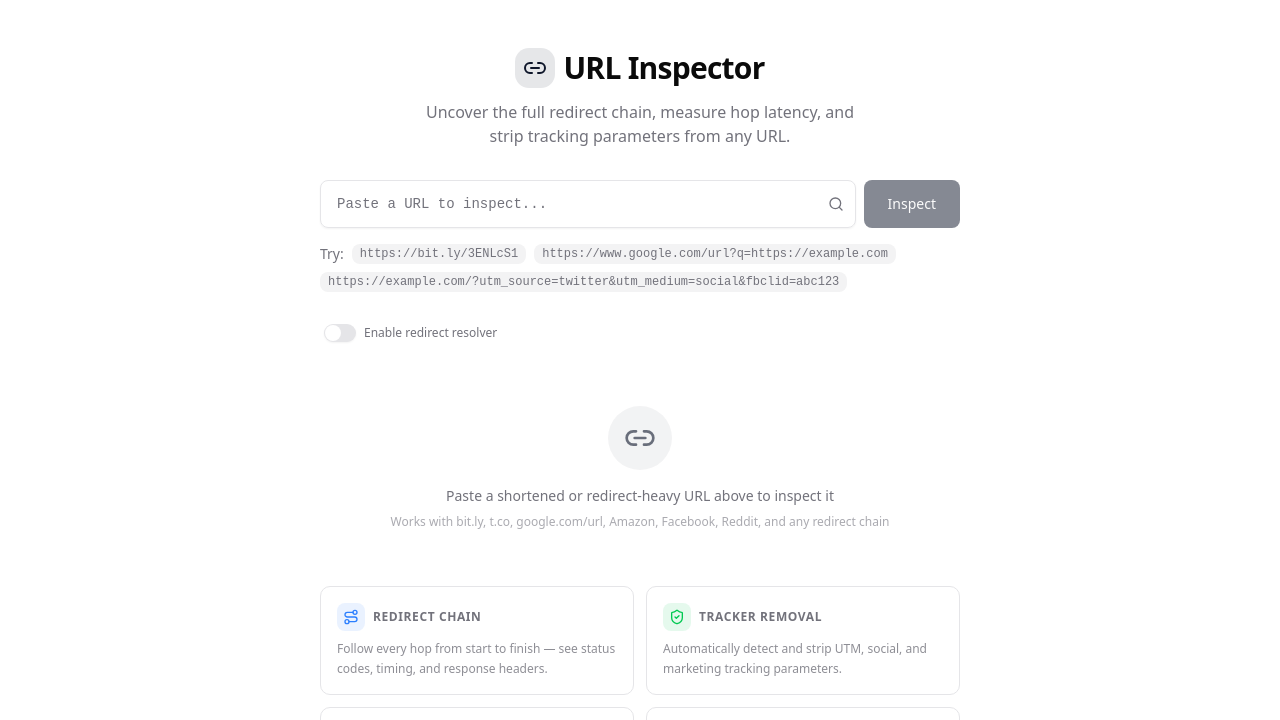
Test case: App › shows loading state during inspection
The image size is (1280, 720).
Step 1. Type "https://example.com" into the field with placeholder "Paste a URL to inspect..." → [588, 204], box x1=320 y1=180 x2=856 y2=228
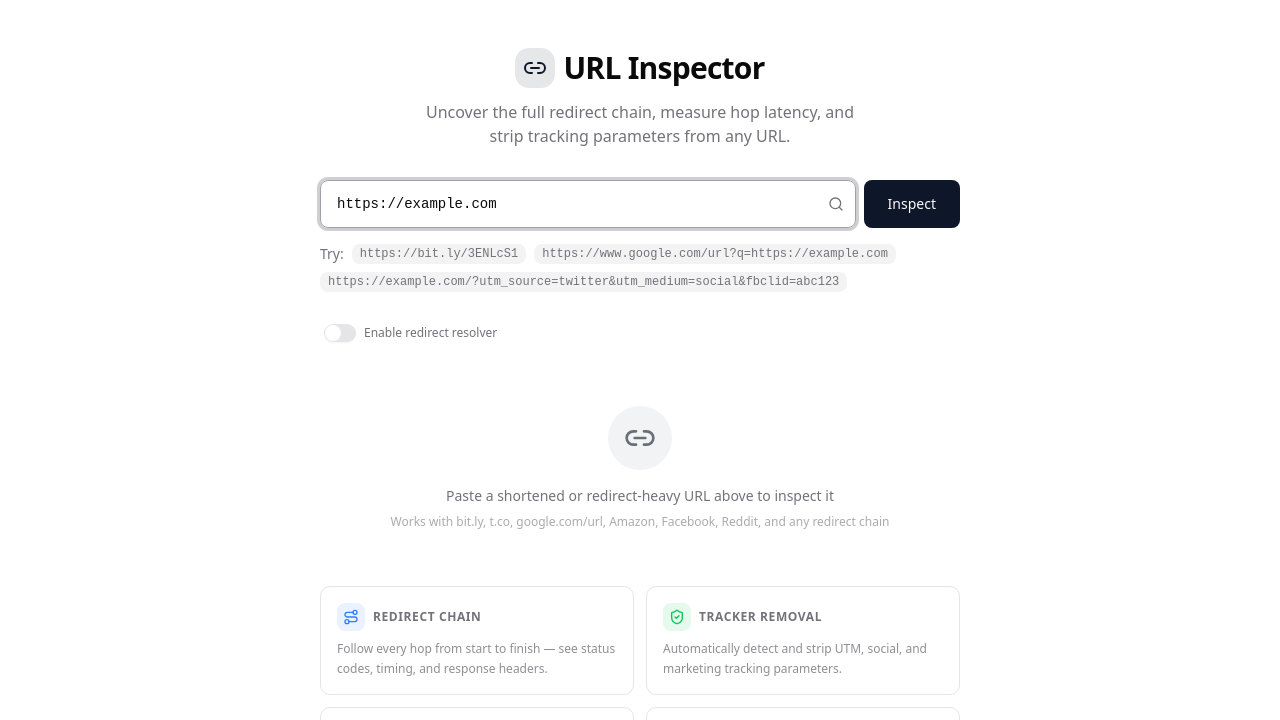
Step 2. Click the button "Inspect" → [912, 204], box x1=864 y1=180 x2=960 y2=228
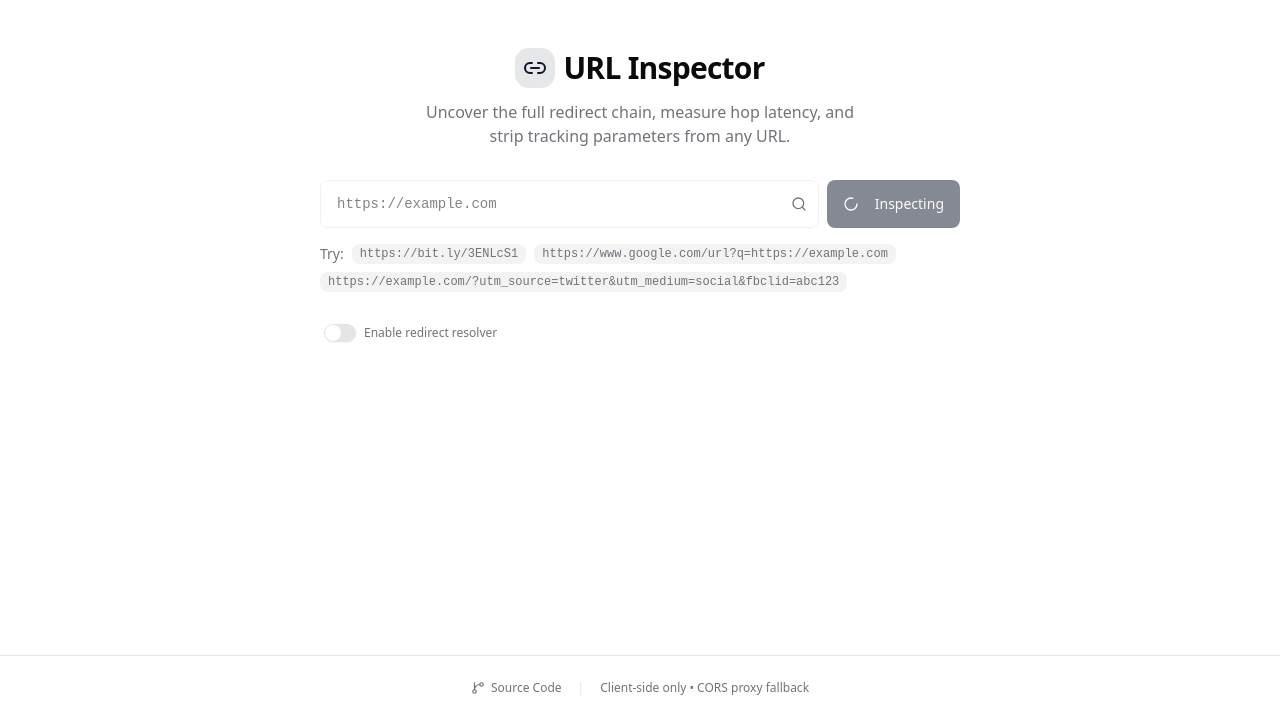
Now the button "Inspecting" is disabled, box x1=827 y1=180 x2=960 y2=228
